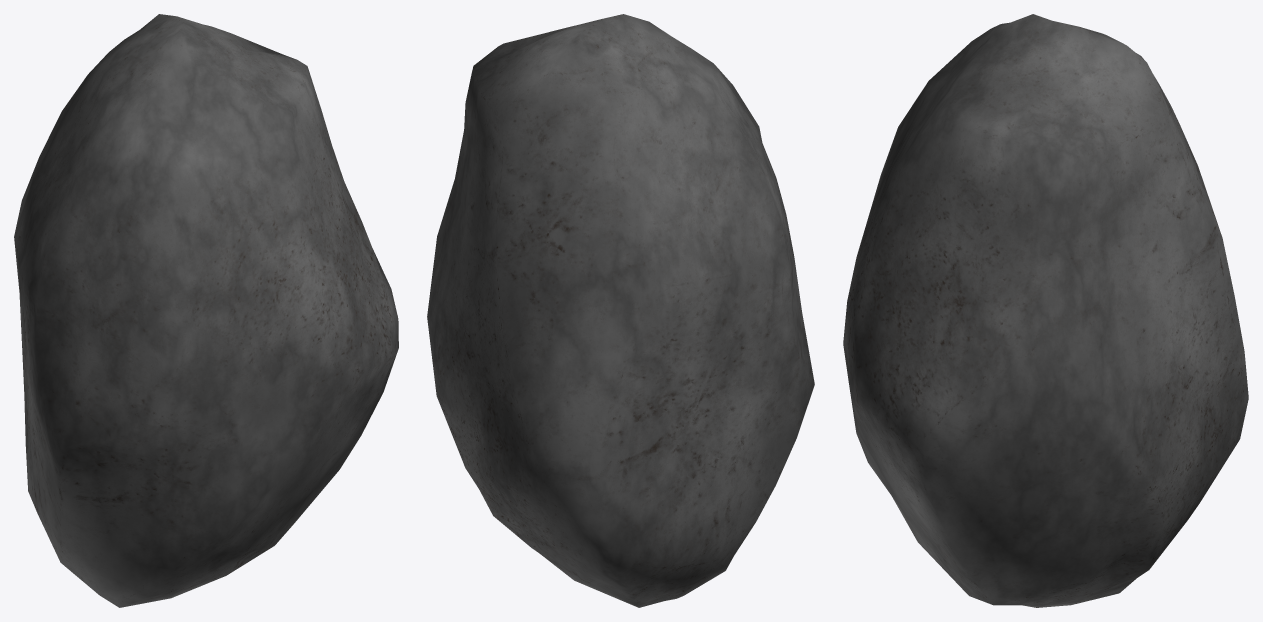
The model's file is SmallRock.fbx.
The picture shows the model from 3 angles, left to right: view 1: azimuth 30°, elevation 25°; view 2: azimuth 150°, elevation 25°; view 3: azimuth 270°, elevation 25°; orthographic projection. The views are drawn at different scales.
Parts seen in each view (by area): view 1: SmallRock; view 2: SmallRock; view 3: SmallRock.
Part boxes in pixels (x1,y1,x2,y2): SmallRock: (14,14,398,607); SmallRock: (427,14,814,607); SmallRock: (843,14,1248,607).
Size of the model in its own units: 0.9727 by 1.56 by 0.9491.
Materials: 1 (1 with a texture image).
